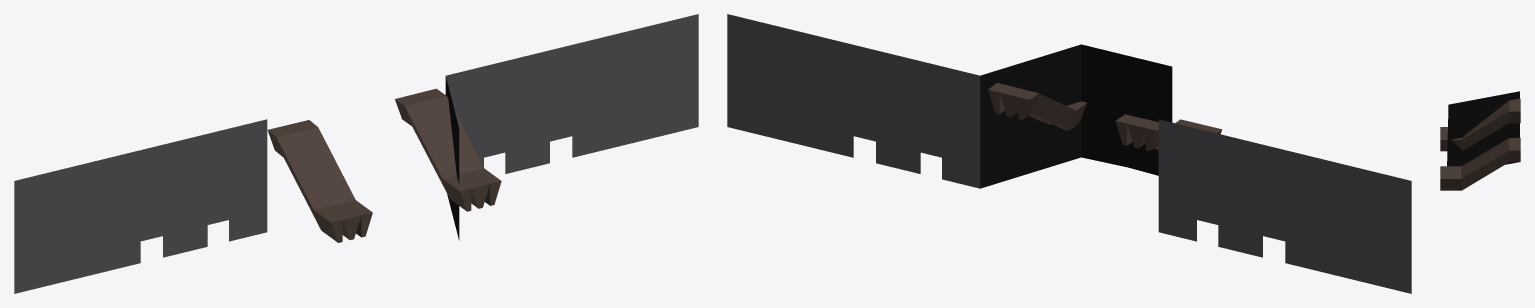
Rendered from background updated.fbx.
The picture shows the model from 3 angles, left to right: view 1: azimuth 30°, elevation 25°; view 2: azimuth 150°, elevation 25°; view 3: azimuth 270°, elevation 25°; orthographic projection. The views are drawn at different scales.
Parts seen in each view (by area): view 1: Background Lobby; view 2: Background Lobby; view 3: Background Lobby.
Boxes of the visible parts, x1,y1,x2,y2 form: Background Lobby: (14, 14, 698, 293); Background Lobby: (727, 14, 1411, 293); Background Lobby: (1440, 91, 1520, 190).
Bounding box in the file's own units: 5863 × 925 × 955.
